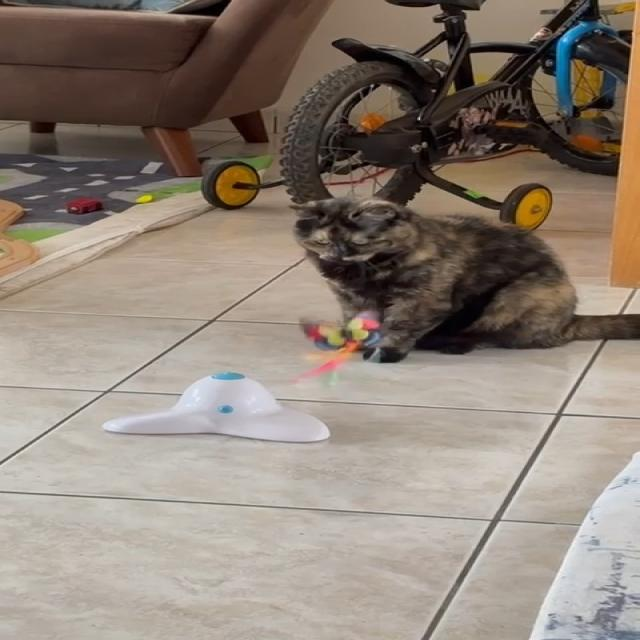authorized: (288, 195, 639, 363)
